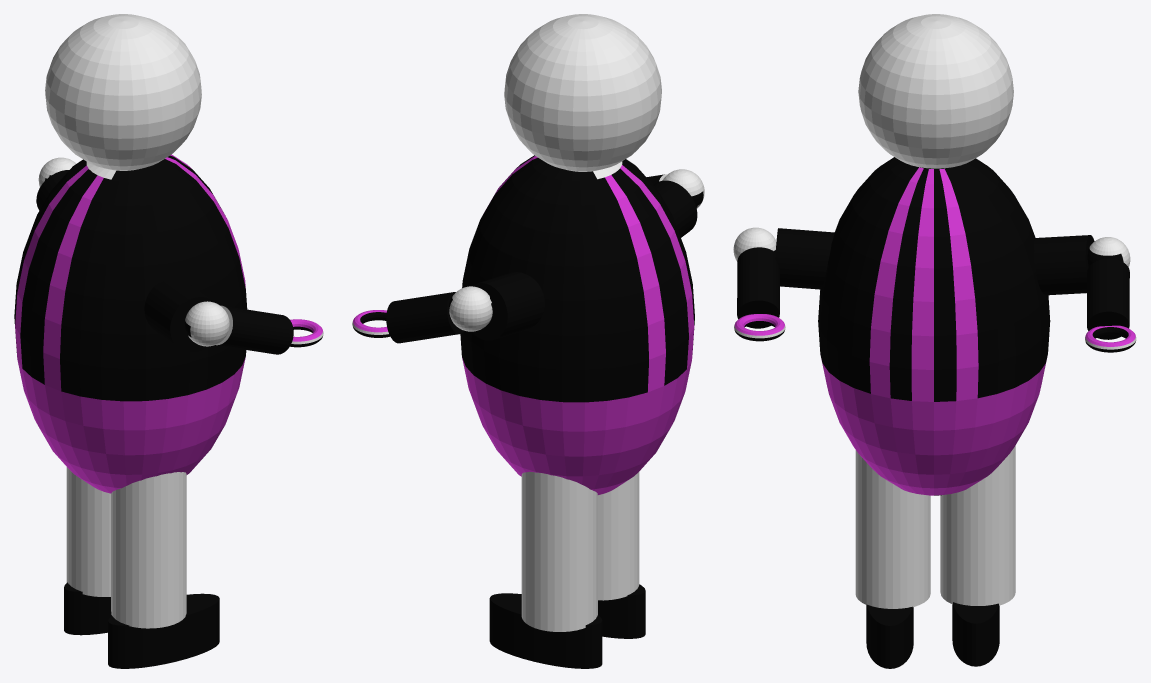
The model's file is chef.fbx.
The picture shows the model from 3 angles, left to right: view 1: azimuth 30°, elevation 25°; view 2: azimuth 150°, elevation 25°; view 3: azimuth 270°, elevation 25°; orthographic projection.
Parts seen in each view (by area): view 1: Cylinder.001, Cylinder; view 2: Cylinder.001, Cylinder; view 3: Cylinder.001, Cylinder.
Part boxes in pixels (x1,y1,x2,y2): Cylinder.001: (14,14,323,635); Cylinder: (108,593,219,668); Cylinder.001: (352,14,704,668); Cylinder: (598,584,645,638); Cylinder.001: (733,14,1136,666); Cylinder: (866,604,913,668).
Bounding box in the file's own units: 121 × 307 × 183.
